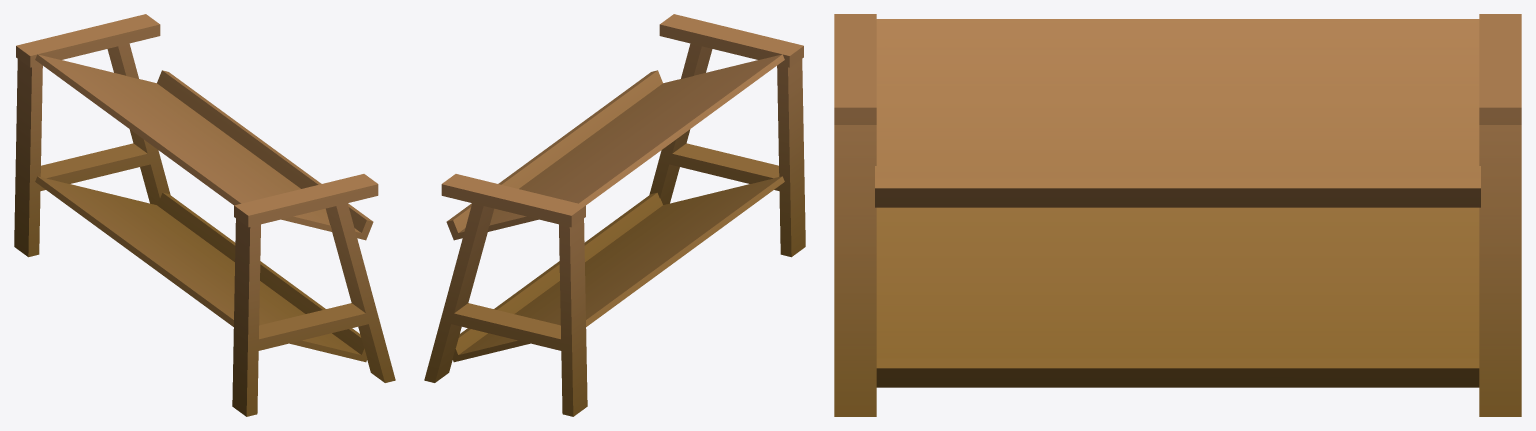
The model's file is veggie_showcase.fbx.
3 views of the same model, side by side, from view 1: azimuth 30°, elevation 25°; view 2: azimuth 150°, elevation 25°; view 3: azimuth 270°, elevation 25° (orthographic). The views are drawn at different scales.
Parts seen in each view (by area): view 1: veggie_showcase; view 2: veggie_showcase; view 3: veggie_showcase.
Part boxes in pixels (x1,y1,x2,y2): veggie_showcase: [14, 14, 395, 416]; veggie_showcase: [424, 14, 805, 416]; veggie_showcase: [834, 14, 1521, 416].
Size of the model in its own units: 544 by 700 by 1469.
